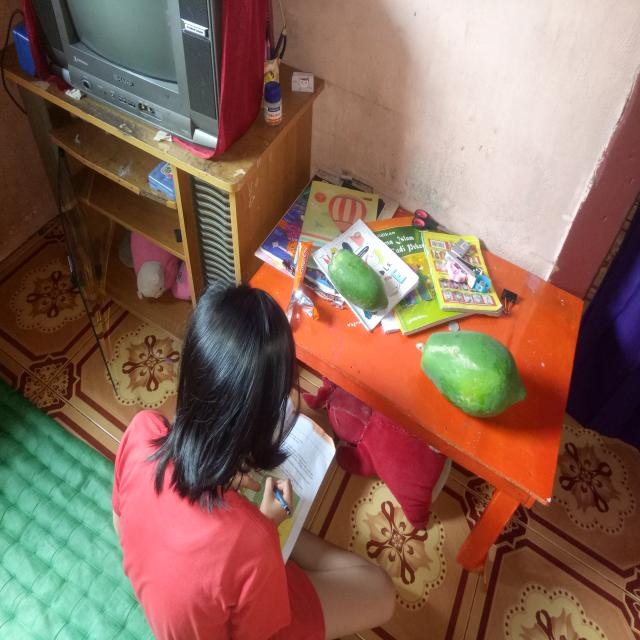Pepaya unrippen: (416, 327, 534, 431), (326, 245, 390, 318)
